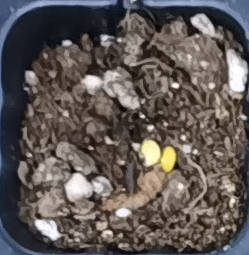pepper seed: (70, 58, 247, 231), (60, 54, 220, 221)
